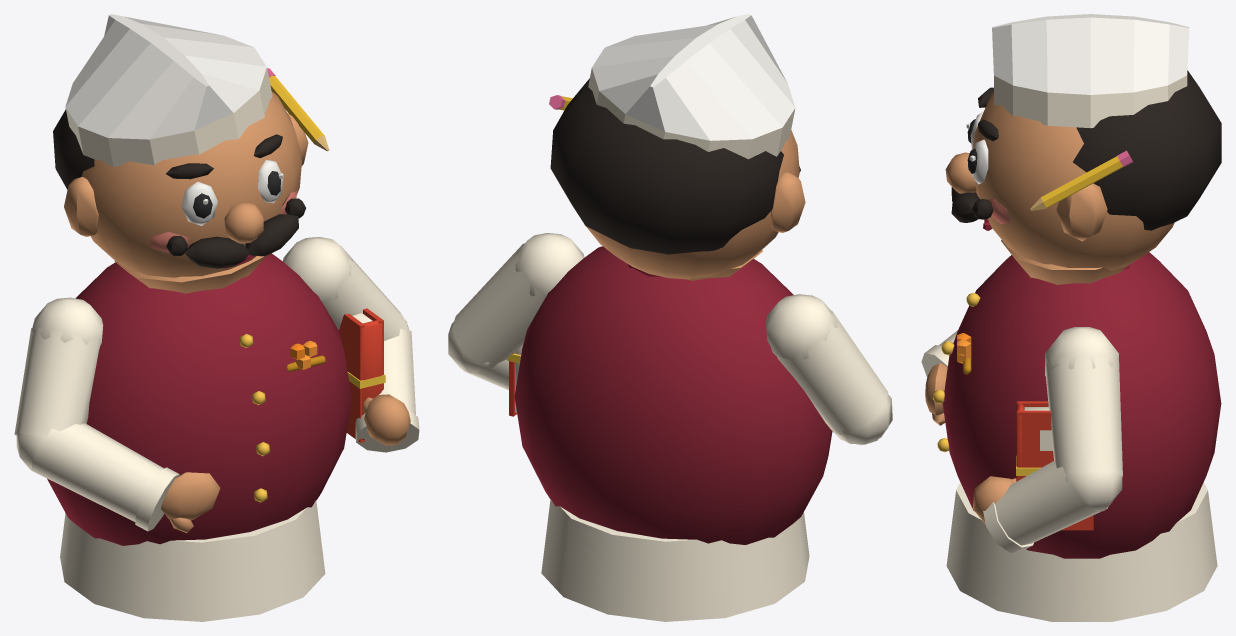
Rendered from munshi_idle.glb.
3 renders of one model, left to right at view 1: azimuth 30°, elevation 25°; view 2: azimuth 150°, elevation 25°; view 3: azimuth 270°, elevation 25°, orthographic.
Visible parts, largest first — view 1: body, head, arm_r, arm_l; view 2: body, head, arm_r, arm_l; view 3: body, head, arm_l, arm_r.
Boxes of the visible parts, <box> form: body: <box>47,253,351,621</box>; head: <box>53,14,329,293</box>; arm_r: <box>14,297,220,532</box>; arm_l: <box>283,237,419,452</box>; body: <box>514,246,832,621</box>; head: <box>549,14,805,280</box>; arm_r: <box>766,294,892,445</box>; arm_l: <box>448,233,584,416</box>; body: <box>933,252,1221,621</box>; head: <box>945,14,1221,284</box>; arm_l: <box>972,327,1122,553</box>; arm_r: <box>921,330,957,425</box>.
Size of the model in its own units: 1.25 by 1.55 by 0.7862.
1 material, 1 textured.
